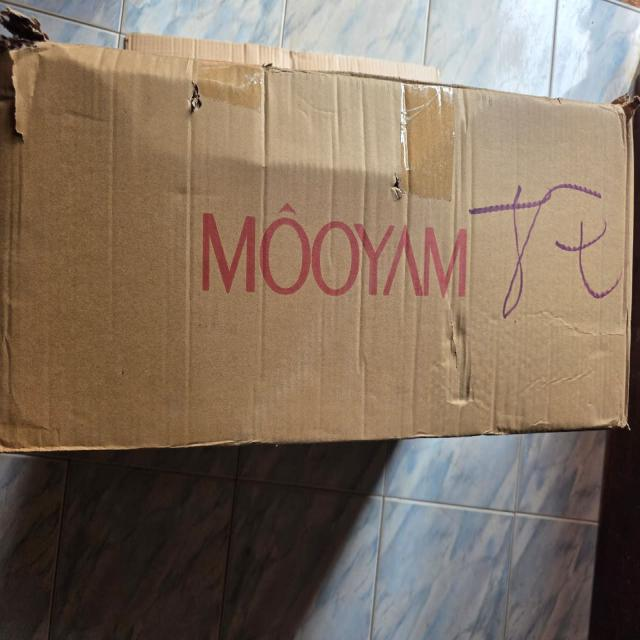carton_box: (0, 0, 640, 481)
package_damage: (0, 0, 56, 158), (161, 56, 222, 158), (369, 147, 426, 234), (602, 71, 640, 163)
